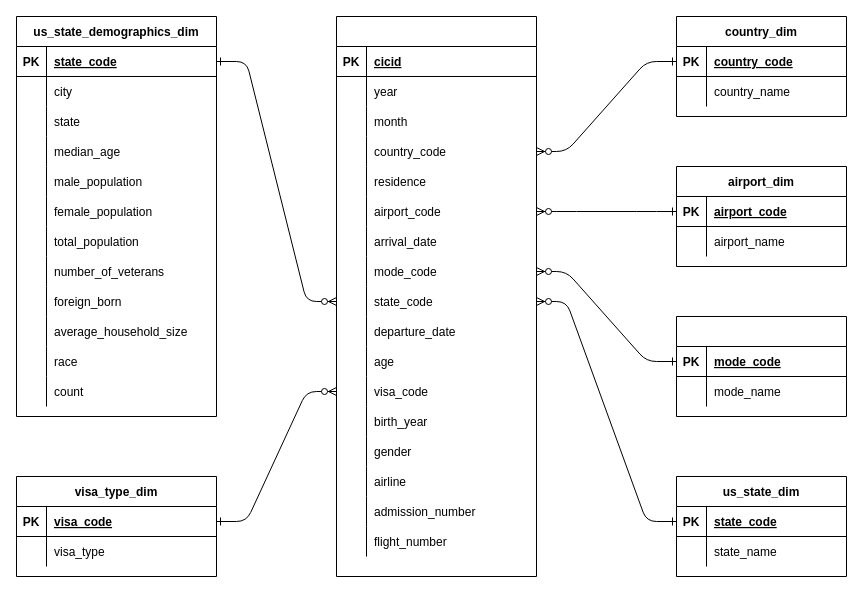
Some shapes in this 863 by 593 pixel diagram are drawn without their labels. The box of each missing label's shape, as (x1, y1, x2, y2) in pixels:
immigration_fact: (336, 16, 536, 576)
immigration_mode_dim: (676, 316, 846, 416)
